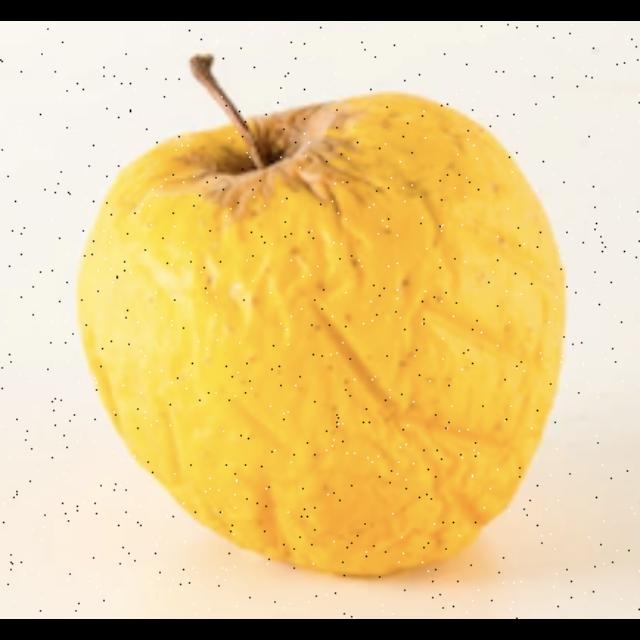Apel Tidak Segar: (69, 59, 574, 584)
